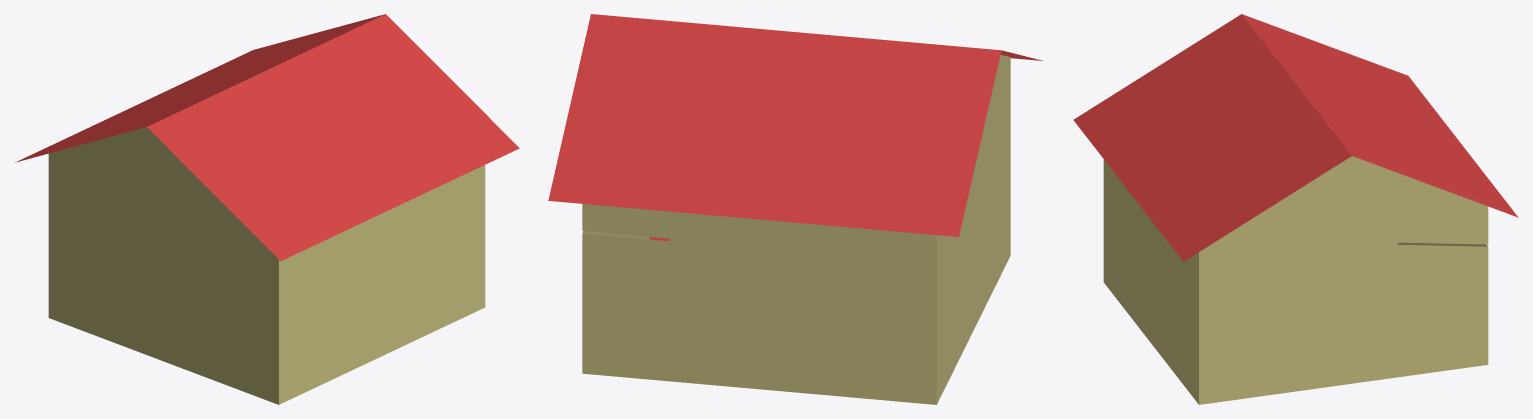
3 renders of one model, left to right at view 1: azimuth 30°, elevation 25°; view 2: azimuth 150°, elevation 25°; view 3: azimuth 270°, elevation 25°, orthographic. The views are drawn at different scales.
Size of the model in its own units: 18.43 by 18.41 by 10.87.
